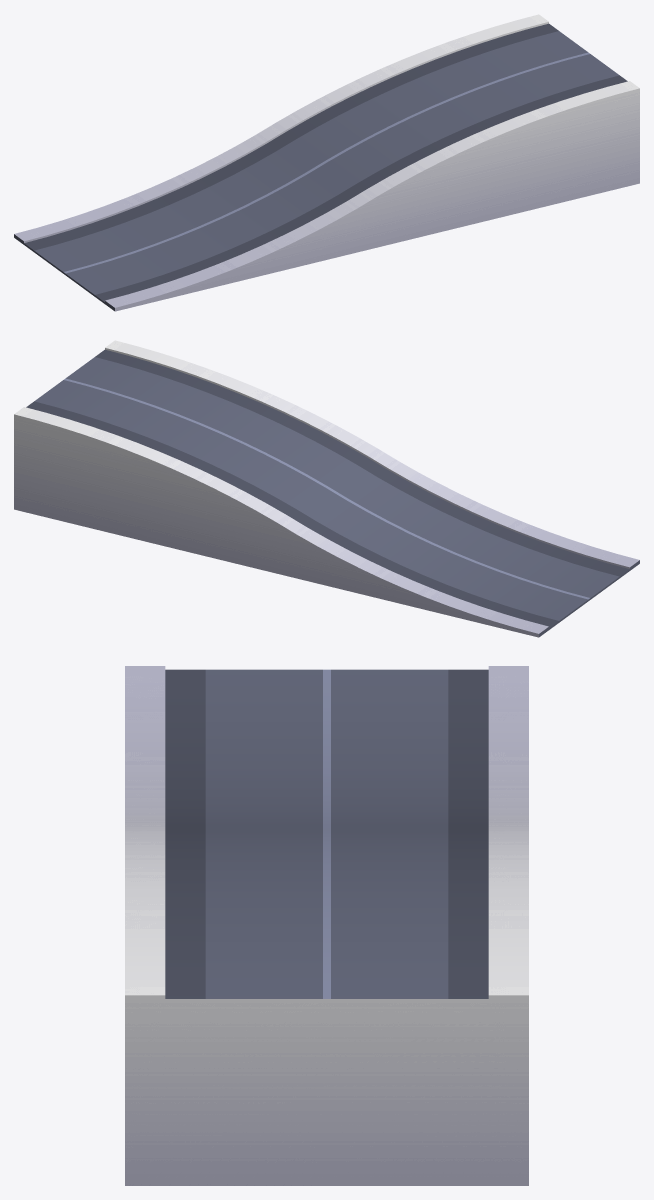
File: road-slant-curve_3.glb
The picture shows the model from 3 angles, top to bottom: view 1: azimuth 30°, elevation 25°; view 2: azimuth 150°, elevation 25°; view 3: azimuth 270°, elevation 25°; orthographic projection. The views are drawn at different scales.
Visible parts, largest first — view 1: road-slant-curve_3; view 2: road-slant-curve_3; view 3: road-slant-curve_3.
Part boxes in pixels (<box>): road-slant-curve_3: <box>14,14,639,311</box>; road-slant-curve_3: <box>14,340,639,637</box>; road-slant-curve_3: <box>125,666,528,1185</box>.
Size of the model in its own units: 3 by 0.52 by 1.
Materials: 1 (1 with a texture image).
